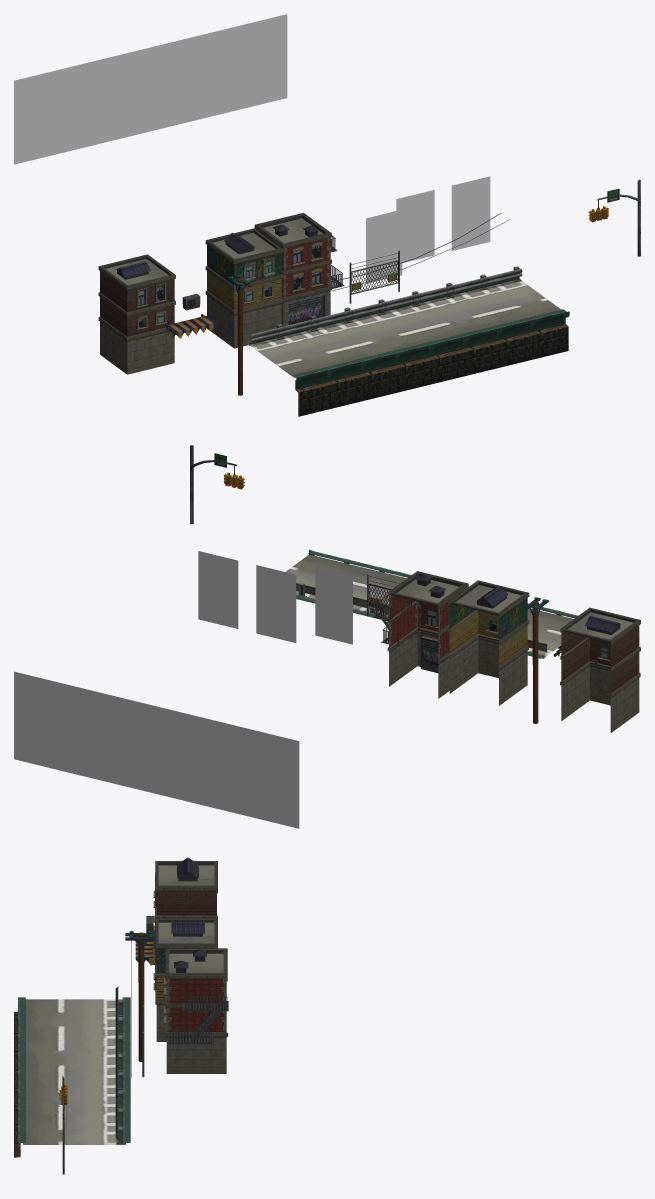
The model's file is zhujiemian_city.fbx.
3 renders of one model, top to bottom at view 1: azimuth 30°, elevation 25°; view 2: azimuth 150°, elevation 25°; view 3: azimuth 270°, elevation 25°, orthographic. The views are drawn at different scales.
Visible parts, largest first — view 1: road, background_city, buildingC, buildingA, buildingB, building_alphaF, building_alphaD, building_alphaB, telegraphpole, fence, trafficlight, shade; view 2: background_city, buildingA, buildingC, buildingB, road, building_alphaB, building_alphaF, building_alphaD, telegraphpole, trafficlight, stair; view 3: road, buildingB, buildingC, buildingA, stair, telegraphpole.
Boxes of the visible parts, x1,y1,x2,y2 form: road: (245,266,569,416); background_city: (14,14,287,164); buildingC: (98,254,175,374); buildingA: (205,228,282,348); buildingB: (254,213,331,326); building_alphaF: (451,176,490,250); building_alphaD: (366,209,402,283); building_alphaB: (396,190,434,263); telegraphpole: (227,213,509,395); fence: (349,250,399,303); trafficlight: (588,179,640,256); shade: (166,314,215,338); background_city: (14,671,299,828); buildingA: (448,580,529,705); buildingC: (560,607,640,732); buildingB: (387,571,468,698); road: (285,550,578,658); building_alphaB: (256,565,296,642); building_alphaF: (198,551,238,628); building_alphaD: (315,567,352,644); telegraphpole: (527,597,548,723); trafficlight: (190,445,244,524); stair: (373,595,420,646); road: (14,986,130,1157); buildingB: (163,948,227,1073); buildingC: (153,857,217,930); buildingA: (152,918,217,1041); stair: (167,996,228,1044); telegraphpole: (125,930,155,1077).
Size of the model in its own units: 45.77 by 14.03 by 47.63.
